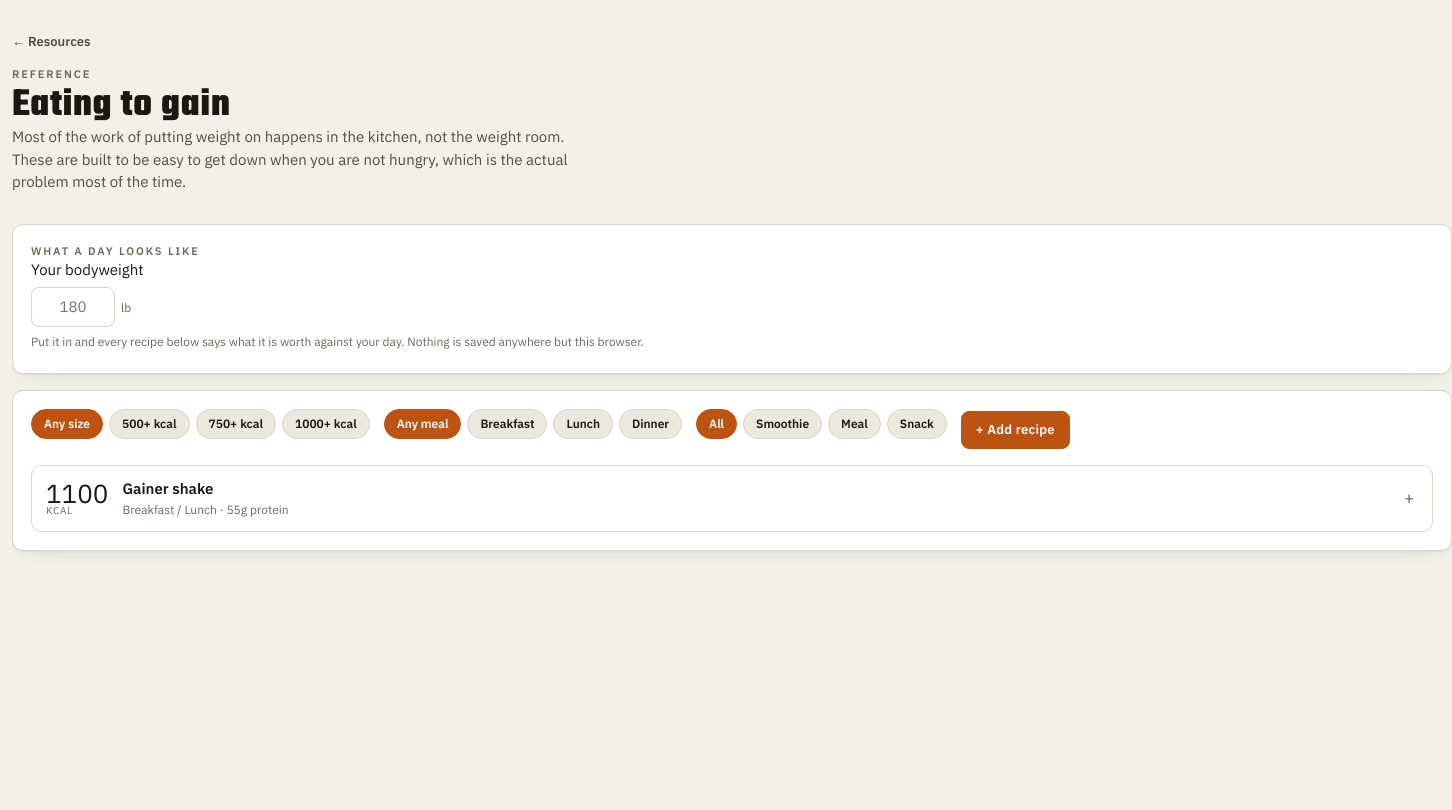
Test: a coach can add and edit
Expected: the button "+ Add recipe" is shown, 961,411 -> 1070,449
Click the button with class "nu-head" at (77, 493), box 32,466 -> 1432,530
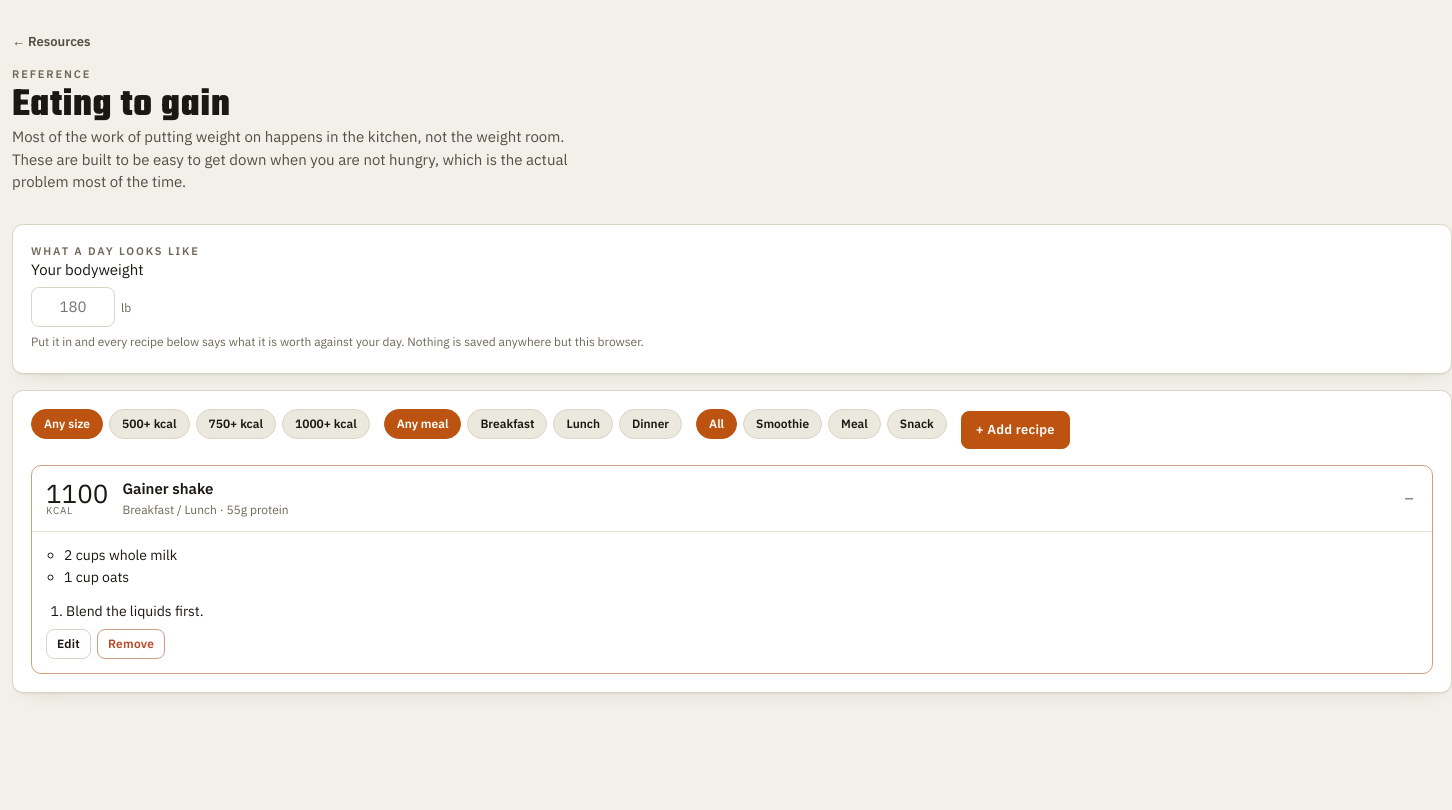
Now the button "Edit" is shown, box 46,629 -> 91,659
